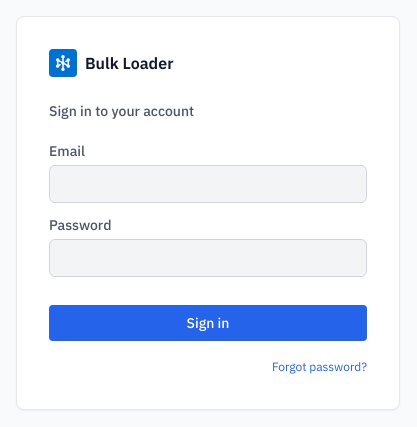
it: Login page › disables submit button while loading
Type "alice@example.com" into the field labelled "Email" at (208, 184), box [49, 165, 367, 203]
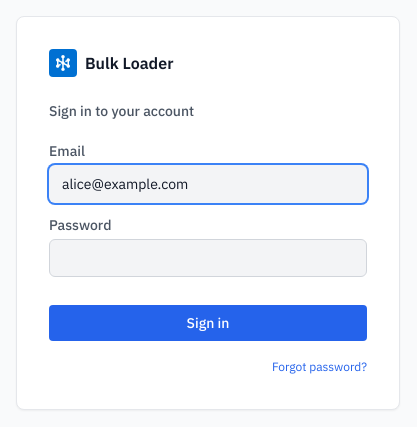
Type "pw" into the password field labelled "Password" at (208, 258), box [49, 239, 367, 277]
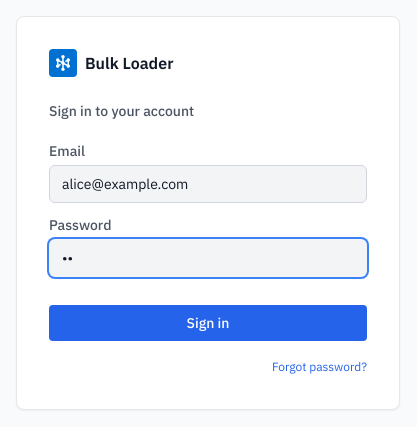
Click the button "Sign in" at (208, 323), box [49, 305, 367, 341]
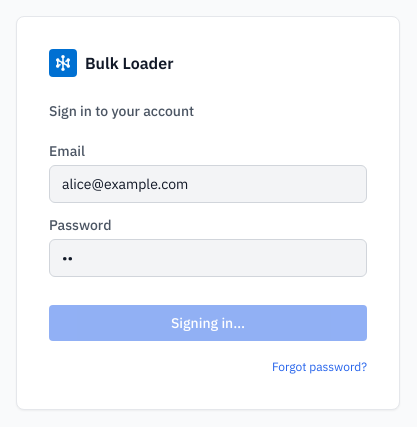
Check: the button "Signing in…" is disabled, box [49, 305, 367, 341]
